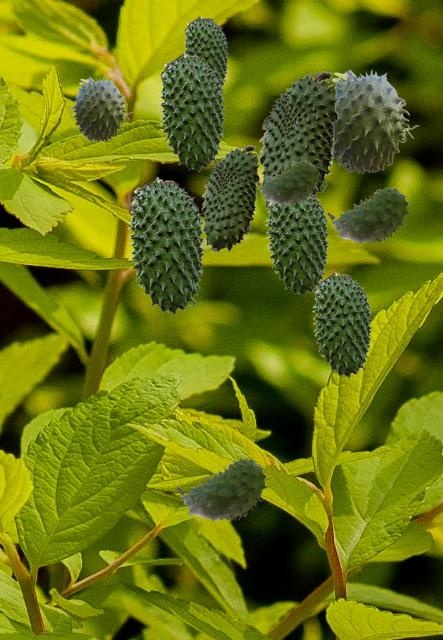guyabano: (259, 71, 338, 209), (127, 176, 205, 314), (331, 68, 418, 173), (158, 52, 225, 171), (265, 193, 329, 295), (312, 271, 372, 377), (201, 145, 259, 251), (176, 458, 267, 523), (327, 187, 409, 245), (68, 76, 132, 141), (183, 15, 228, 90), (257, 160, 319, 206)
